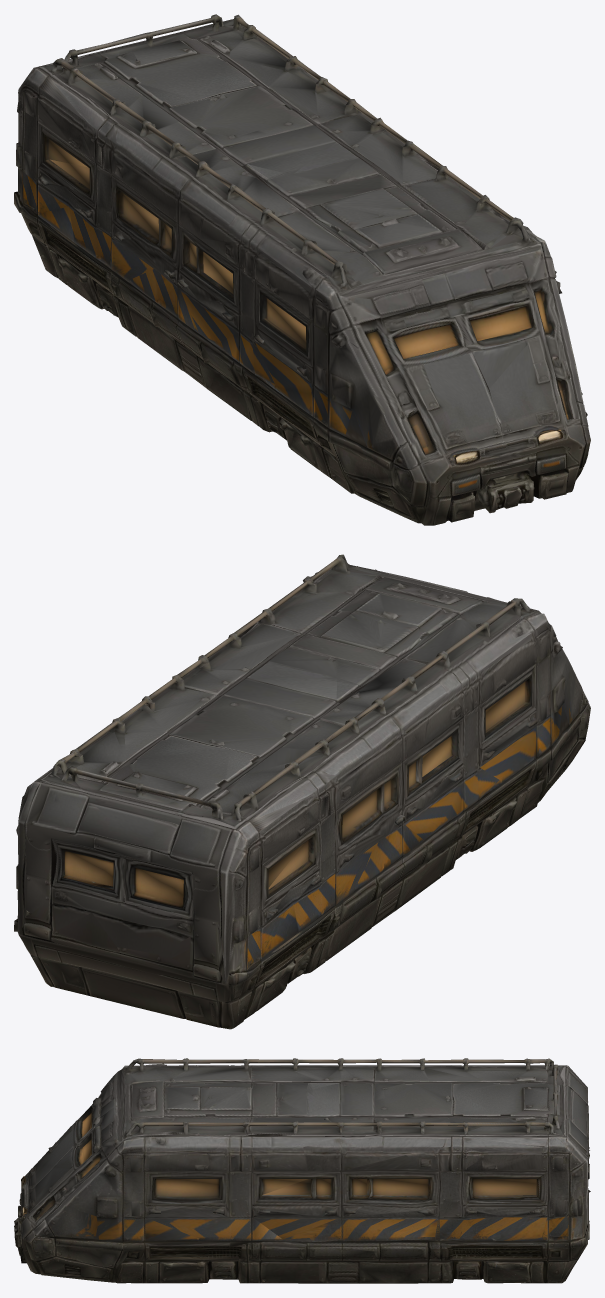
Rendered from tram.glb.
3 renders of one model, top to bottom at view 1: azimuth 30°, elevation 25°; view 2: azimuth 150°, elevation 25°; view 3: azimuth 270°, elevation 25°, orthographic. The views are drawn at different scales.
Bounding box in the file's own units: 0.3442 × 0.3078 × 1.
1 material, 1 textured.
